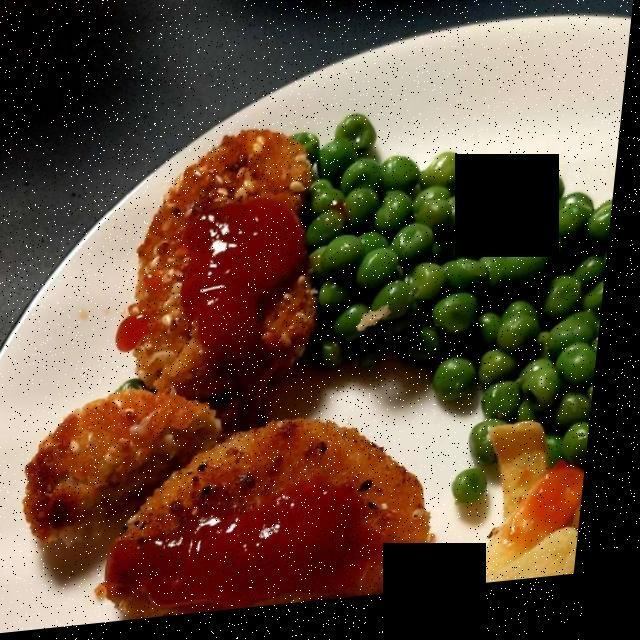chips-french-fries: (480, 440, 585, 580)
ketchup: (105, 211, 380, 595)
peas: (334, 127, 615, 465)
